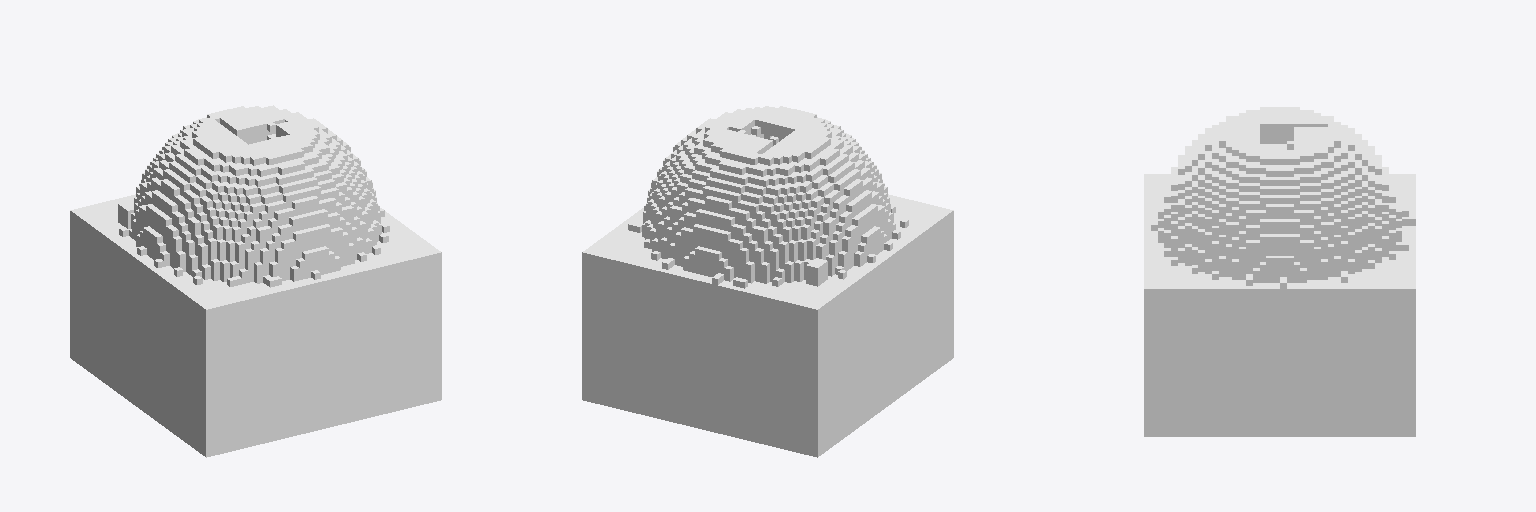
Rendered from volcano.obj.
The picture shows the model from 3 angles: view 1: azimuth 30°, elevation 25°; view 2: azimuth 150°, elevation 25°; view 3: azimuth 270°, elevation 25°; orthographic projection.
Parts seen in each view (by area): view 1: object 1; view 2: object 1; view 3: object 1.
Boxes of the visible parts, x1=… form: object 1: x1=70, y1=105, x2=441, y2=457; object 1: x1=582, y1=106, x2=953, y2=457; object 1: x1=1144, y1=107, x2=1415, y2=436.
Size of the model in its own units: 4 by 4 by 4.